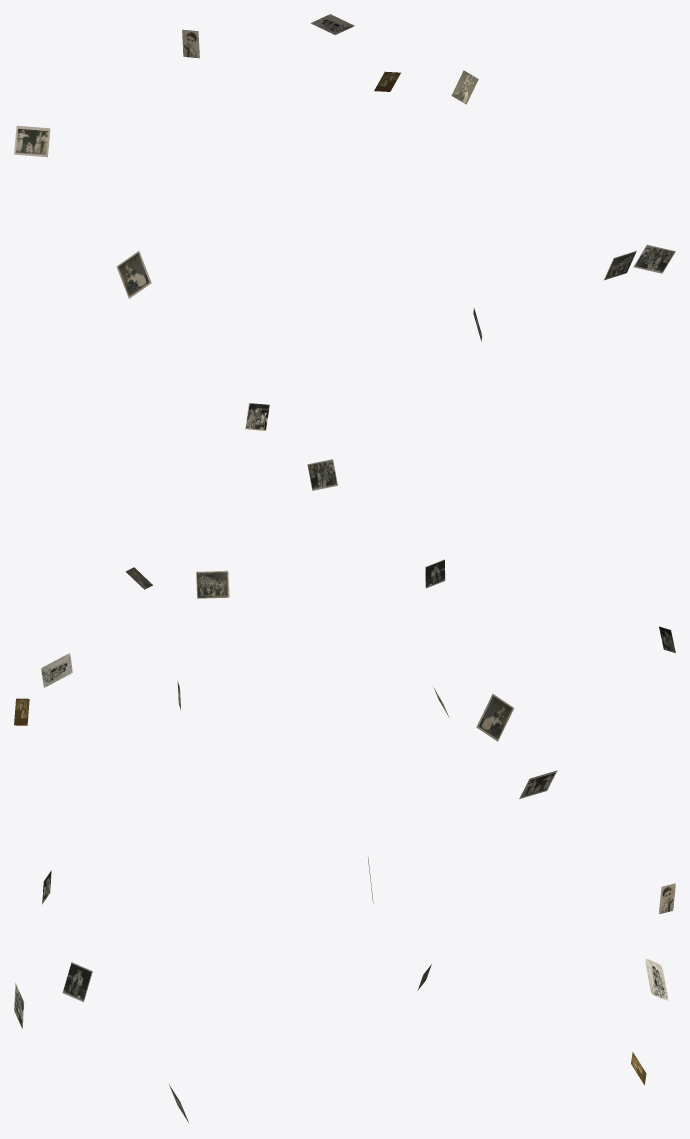
The model's file is world_click_image.gltf.
3 views of the same model, one above another, from view 1: azimuth 30°, elevation 25°; view 2: azimuth 150°, elevation 25°; view 3: azimuth 270°, elevation 25° (orthographic). The views are drawn at different scales.
Visible parts, largest first — view 1: image.002, image.020, image.019; view 2: image.020, image.005, image.019, image.016, image.021; view 3: image.021, image.016.
Boxes of the visible parts, x1,y1,x2,y2 form: image.002: (14,125,50,157); image.020: (116,251,151,298); image.019: (633,244,675,273); image.020: (476,694,514,741); image.005: (196,570,229,598); image.019: (307,459,337,490); image.016: (41,653,72,687); image.021: (425,559,445,588); image.021: (62,962,92,1002); image.016: (644,957,668,1001).
Bounding box in the file's own units: 18.01 × 4.97 × 21.68.
10 materials, 10 textured.
